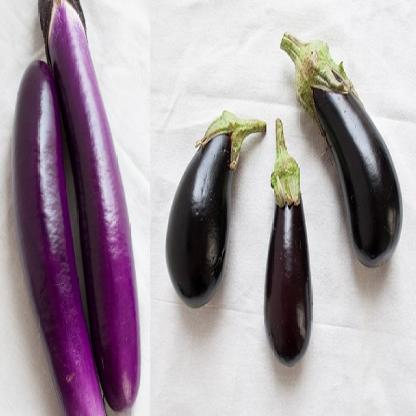--: (12, 0, 146, 416), (277, 22, 410, 269), (161, 83, 260, 325), (260, 109, 316, 370)
